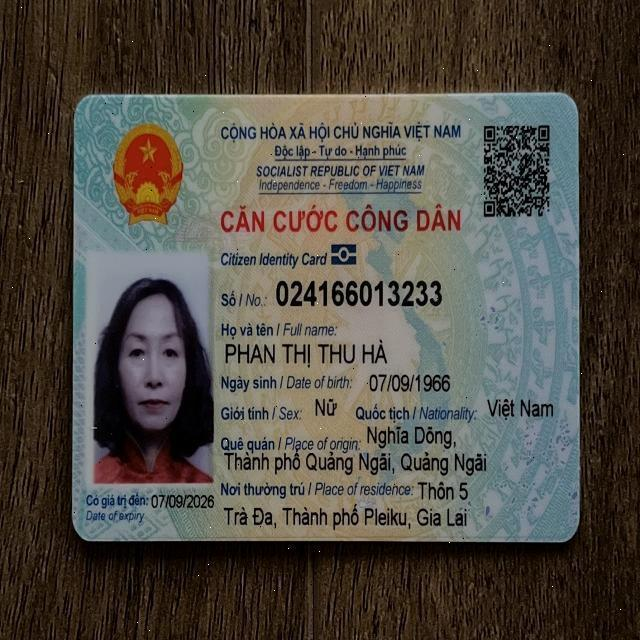current_place: (224, 501, 473, 532), (417, 475, 472, 501)
dob: (365, 370, 455, 398)
expire_date: (146, 492, 219, 511)
gender: (309, 392, 341, 420)
id: (271, 275, 446, 312)
name: (219, 338, 407, 370)
nationality: (483, 387, 560, 426)
origin_place: (223, 447, 492, 475), (365, 421, 458, 450)
